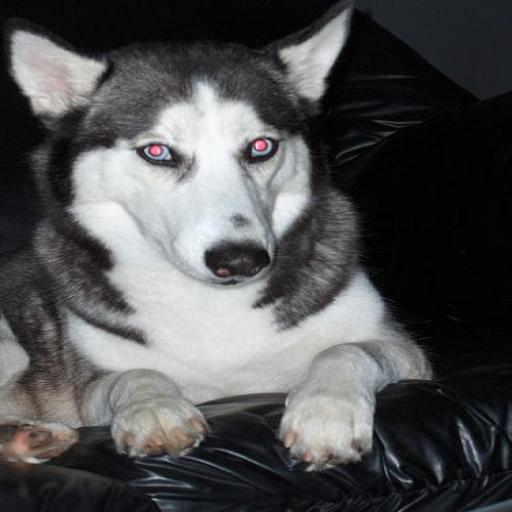dog_face: (14, 21, 351, 296)
